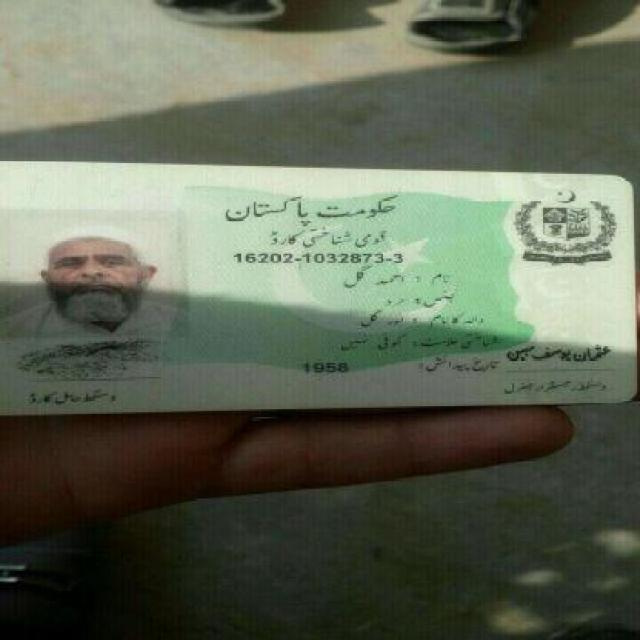Front: (3, 152, 629, 418)
